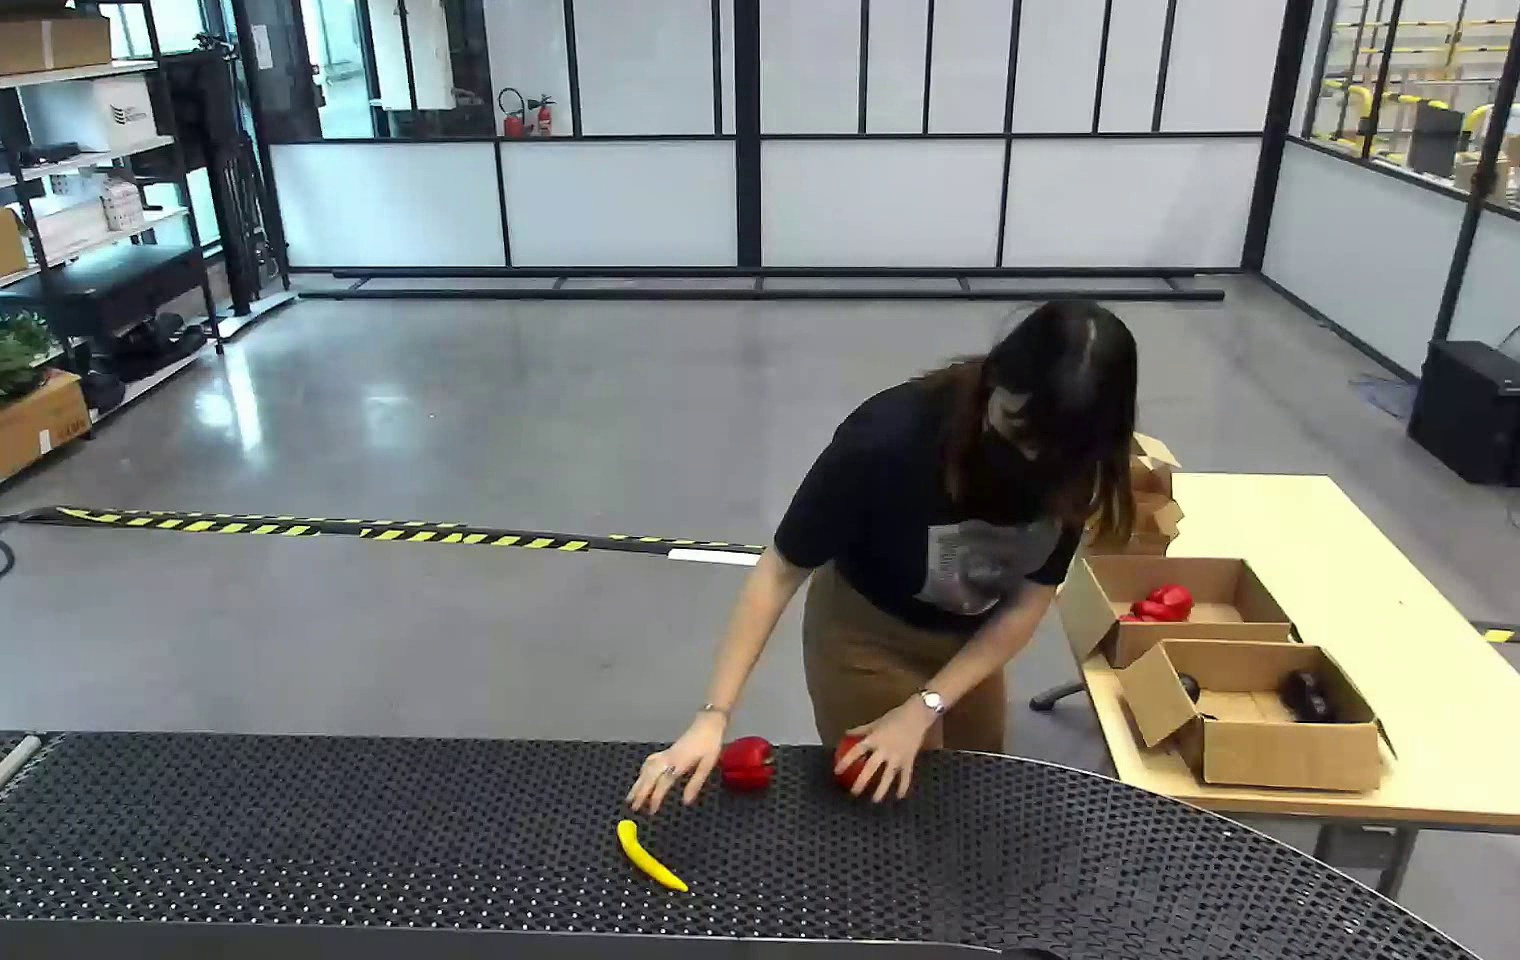Main droite: (625, 718, 723, 817)
